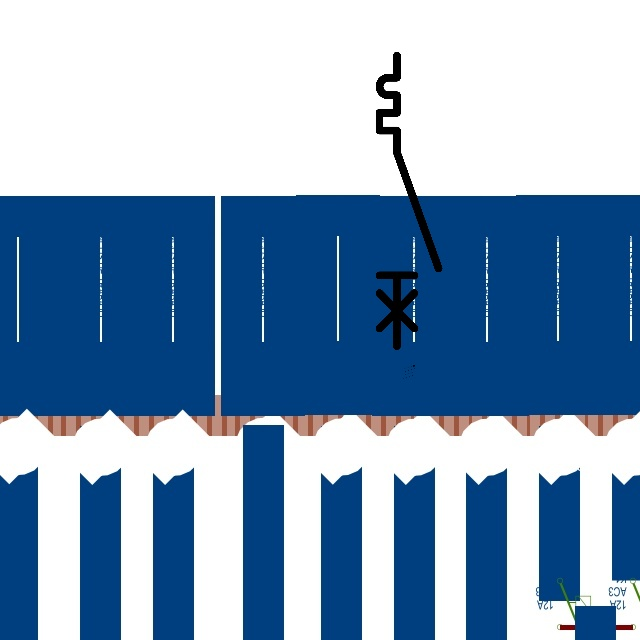interruptor_termomagnetico: (372, 48, 446, 353)
